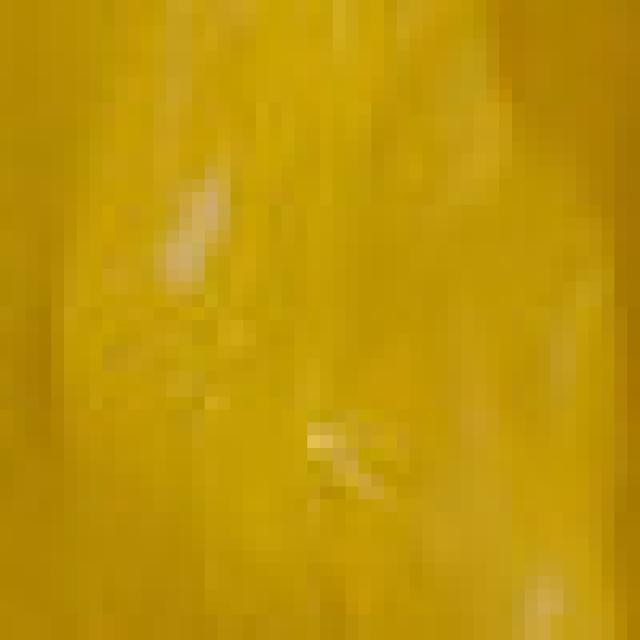fire: (4, 1, 617, 618)
